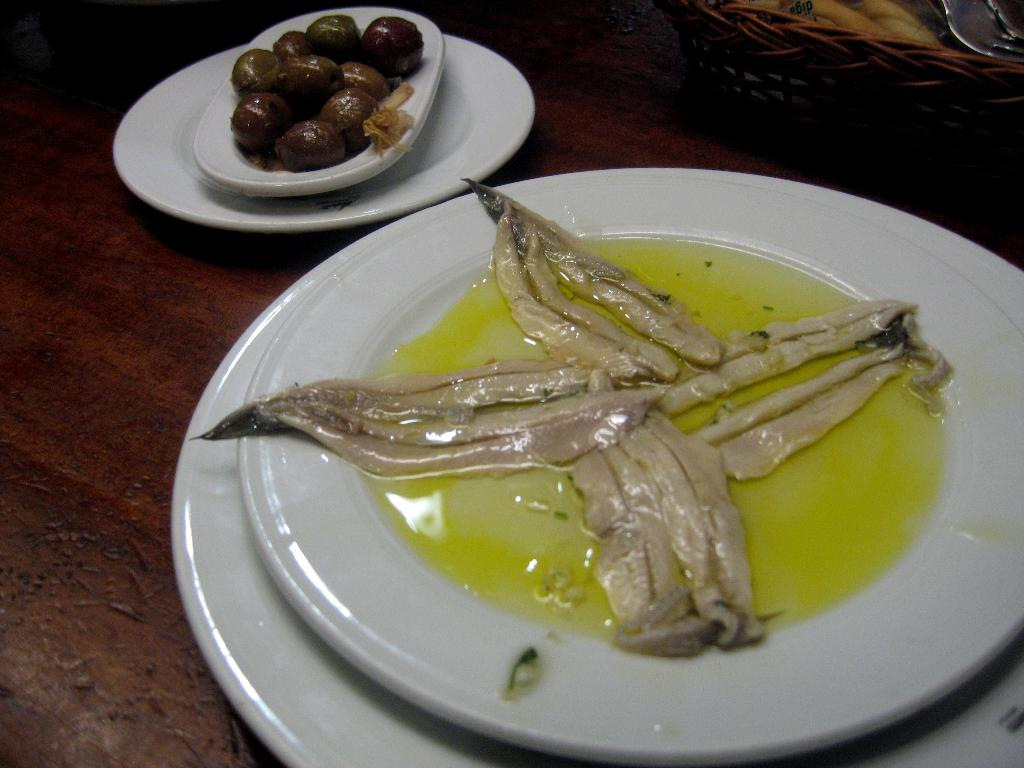plate: (123, 0, 538, 220)
